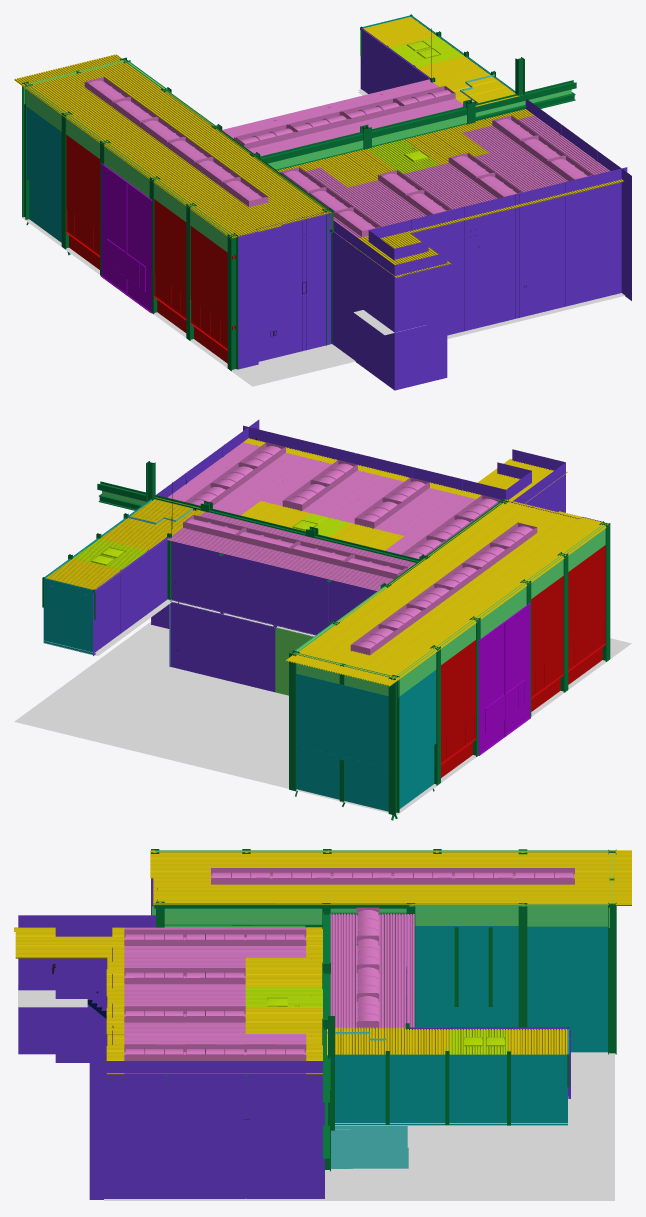
Rendered from Loods.fbx.
3 views of the same model, one above another, from view 1: azimuth 30°, elevation 25°; view 2: azimuth 150°, elevation 25°; view 3: azimuth 270°, elevation 25° (orthographic). The views are drawn at different scales.
Parts seen in each view (by area): view 1: WallFlatMesh, RoofsongWindowMesh, RoofslatMesh, WallWindowMesh, SteelBeamMesh, WallHighMesh, FrontDoorMesh, FloorMesh, WallSplitMesh, RoofSquareWindowMesh; view 2: WallFlatMesh, RoofsongWindowMesh, RoofslatMesh, FloorMesh, WallSplitMesh, WallWindowMesh, SteelBeamMesh, FrontDoorMesh, WallHighMesh, RoofSquareWindowMesh, WallSquareWindowMesh; view 3: WallFlatMesh, RoofsongWindowMesh, WallSplitMesh, RoofslatMesh, FloorMesh, SteelBeamMesh, WallHighMesh, StairwellMesh, RoofSquareWindowMesh.
Part boxes in pixels (box(x1,y1,x2,y2)): WallFlatMesh: box(238, 28, 631, 390); RoofsongWindowMesh: box(84, 77, 610, 240); RoofslatMesh: box(14, 16, 623, 277); WallWindowMesh: box(66, 135, 235, 363); SteelBeamMesh: box(22, 14, 576, 371); WallHighMesh: box(24, 59, 571, 252); FrontDoorMesh: box(100, 163, 152, 313); FloorMesh: box(22, 89, 624, 386); WallSplitMesh: box(26, 15, 520, 242); RoofSquareWindowMesh: box(367, 36, 463, 174); WallFlatMesh: box(93, 419, 601, 692); RoofsongWindowMesh: box(167, 442, 537, 655); RoofslatMesh: box(46, 438, 609, 686); FloorMesh: box(14, 599, 631, 815); WallSplitMesh: box(43, 499, 436, 811); WallWindowMesh: box(441, 545, 605, 777); SteelBeamMesh: box(42, 461, 610, 820); FrontDoorMesh: box(478, 603, 530, 755); WallHighMesh: box(102, 491, 606, 696); RoofSquareWindowMesh: box(73, 513, 349, 570); WallSquareWindowMesh: box(275, 627, 313, 695); WallFlatMesh: box(18, 878, 570, 1199); RoofsongWindowMesh: box(124, 868, 574, 1073); WallSplitMesh: box(335, 926, 607, 1125); RoofslatMesh: box(14, 850, 631, 1074); FloorMesh: box(18, 985, 614, 1200); SteelBeamMesh: box(151, 849, 616, 1171); WallHighMesh: box(152, 850, 613, 927); StairwellMesh: box(327, 1032, 408, 1168); RoofSquareWindowMesh: box(245, 986, 507, 1054).
Size of the model in its own units: 40.43 by 17.32 by 46.06.
